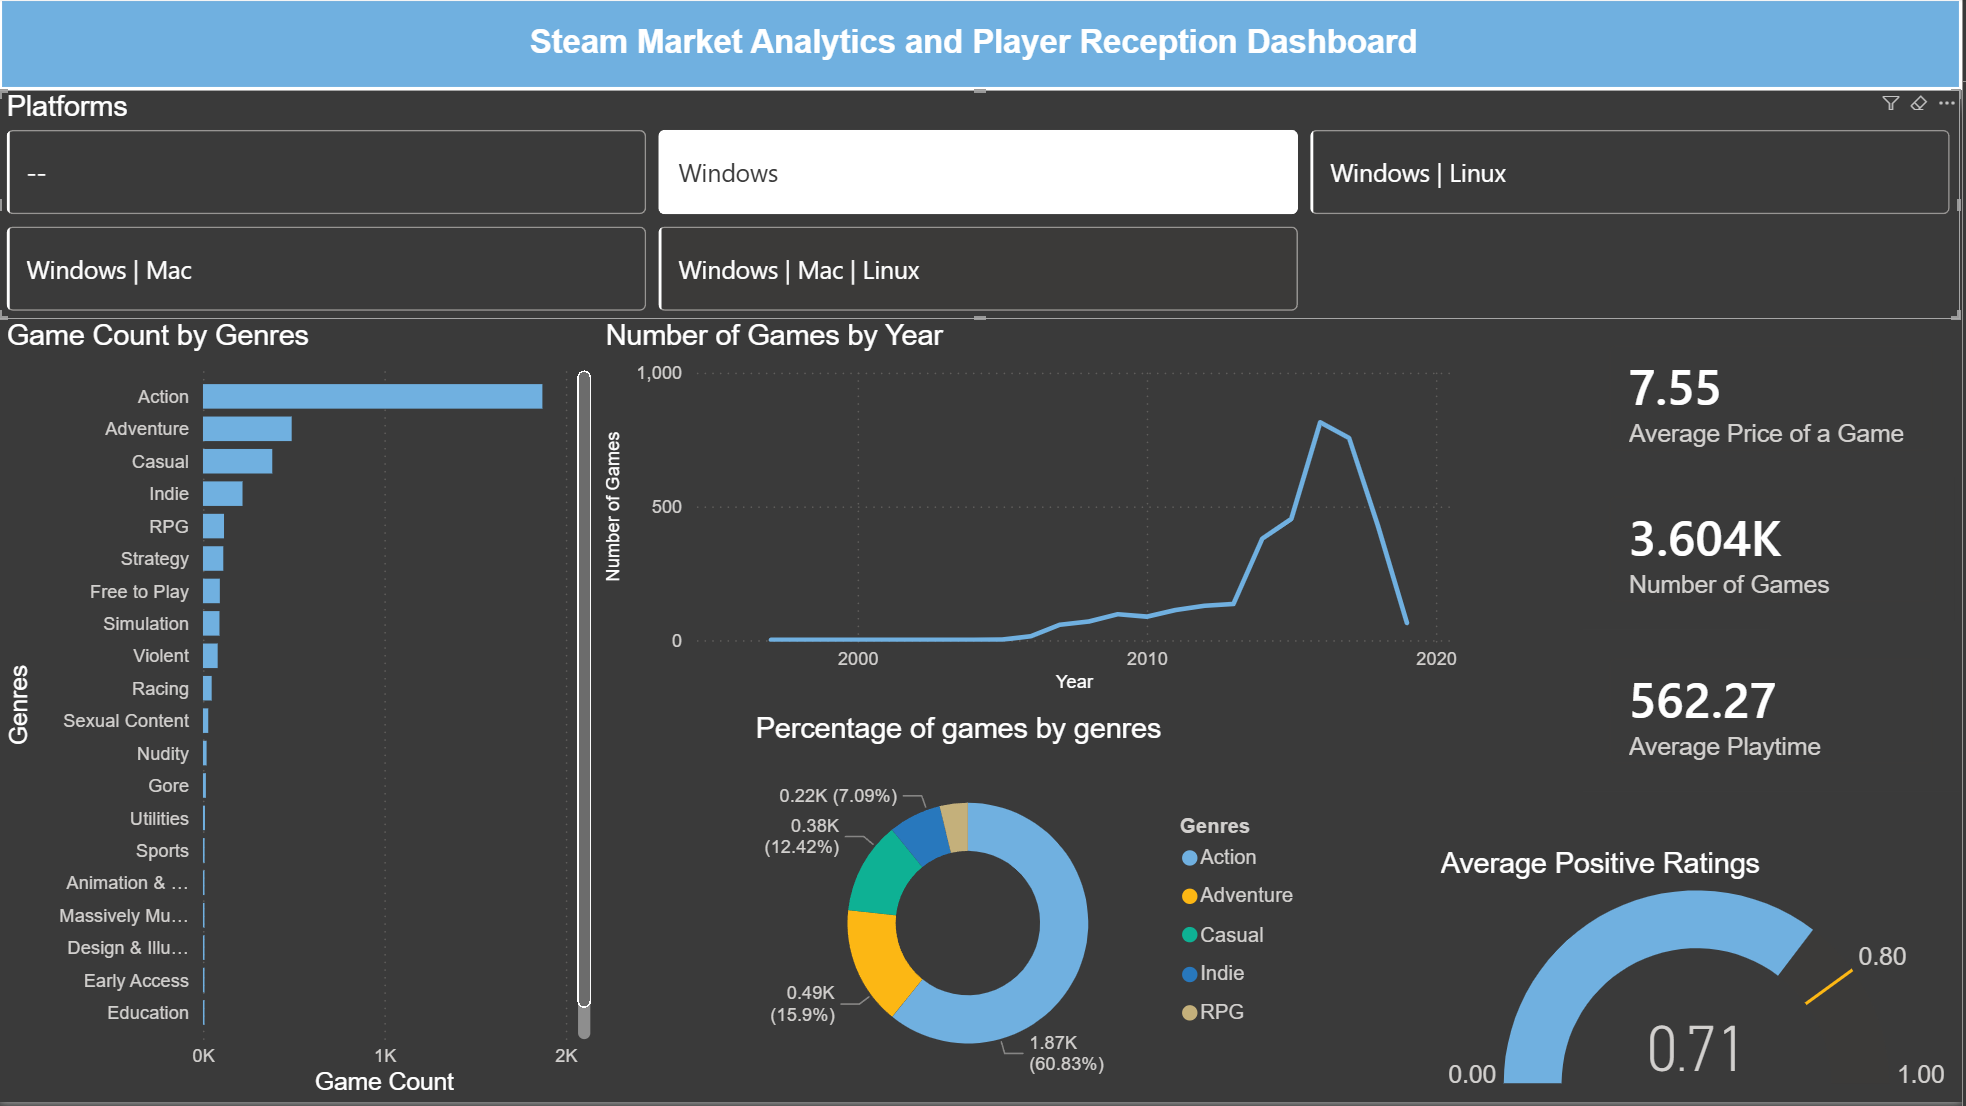

The page's visual inventory and layout, read from the dashboard file:
{"tool":"powerbi","page":{"name":"Page 1","canvas":[1280,720],"ordinal":0},"visuals":[{"type":"cardVisual","fields":{"Data":["Count(steam.name)"]},"box":[1032.9,307.8,247.1,103.7],"z":0},{"type":"cardVisual","fields":{"Data":["Avg(steam.price)"]},"box":[1032.9,209.3,245.8,103],"z":1000},{"type":"cardVisual","fields":{"Data":["Avg(steam.average_playtime)"]},"box":[1032.9,413.4,245.8,103.7],"z":2000},{"type":"clusteredBarChart","fields":{"Category":["steam.genres.1"],"Y":["CountNonNull(steam.name)"]},"box":[0,209.3,390.6,510.6],"z":3000},{"type":"lineChart","title":"Number of Games by Year","fields":{"Category":["steam.Year"],"Y":["CountNonNull(steam.name)"]},"box":[390.6,209.3,565.3,248.4],"z":4000},{"type":"advancedSlicerVisual","fields":{"Values":["steam.platforms"]},"box":[0,60,1278.7,149.3],"z":5000},{"type":"textbox","box":[0,0,1280,60.2],"z":6000},{"type":"donutChart","title":"Percentage of games by genres","fields":{"Category":["steam.genres.1"],"Y":["CountNonNull(steam.name)"]},"box":[488.4,465.6,369.7,254.3],"z":7000},{"type":"gauge","fields":{"Y":["Avg(steam.Positive_Ratio)"]},"box":[935.1,553.6,343.6,166.3],"z":8000}]}

Visuals, with their boxes in screenshot pixels (x1, y1, x2, y2), scaled from the page's 1280x720 canvas onto the 1966x1106 screenshot:
cardVisual - Count(steam.name): 1586, 473, 1965, 632
cardVisual - Avg(steam.price): 1586, 322, 1964, 480
cardVisual - Avg(steam.average_playtime): 1586, 635, 1964, 794
clusteredBarChart - steam.genres.1 x CountNonNull(steam.name): 0, 322, 600, 1105
"Number of Games by Year" lineChart: 600, 322, 1468, 703
advancedSlicerVisual - steam.platforms: 0, 92, 1964, 322
textbox: 0, 0, 1965, 92
"Percentage of games by genres" donutChart: 750, 715, 1318, 1105
gauge - Avg(steam.Positive_Ratio): 1436, 850, 1964, 1105
